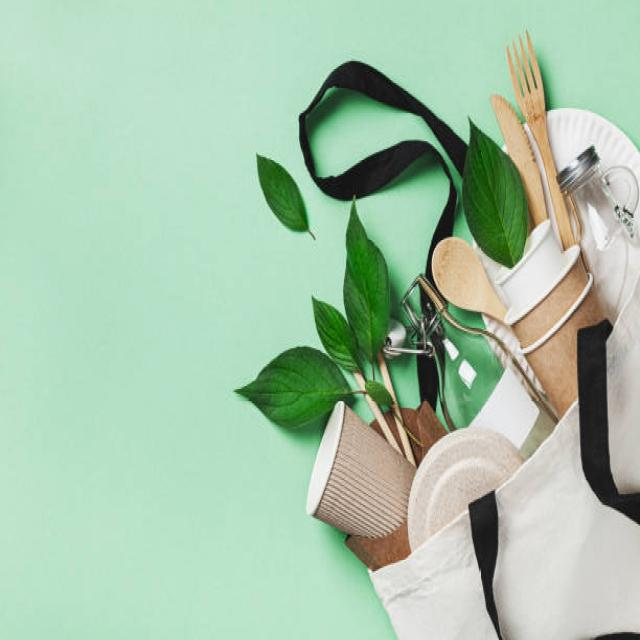cardboard: (474, 201, 608, 362), (300, 402, 402, 558)
